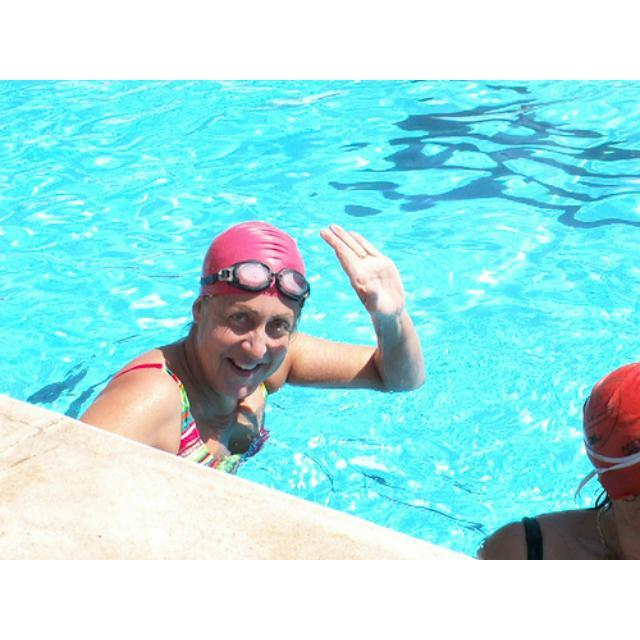human: (81, 214, 425, 448), (479, 358, 640, 560)
